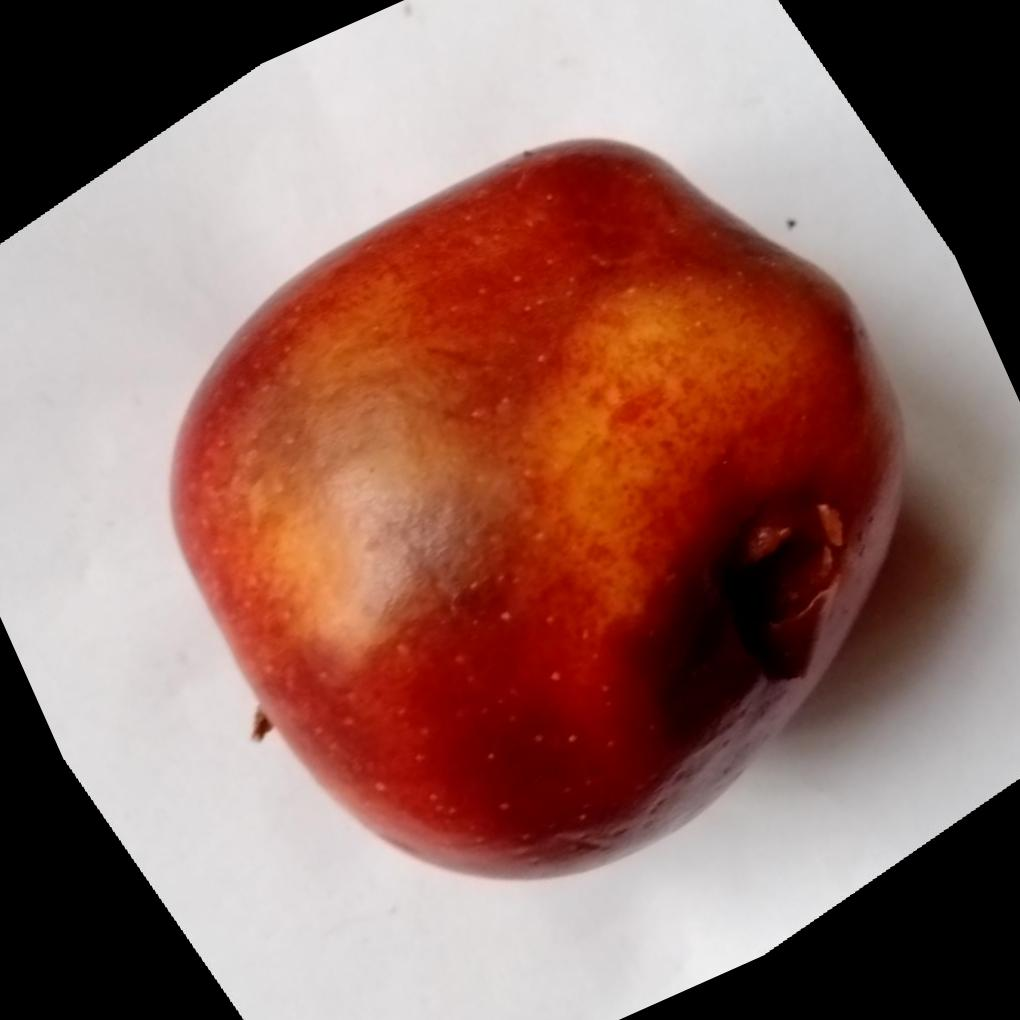FreshOrange: (166, 133, 905, 880)
